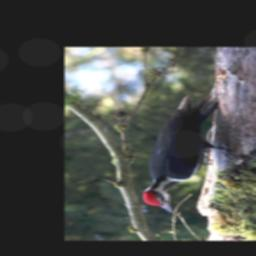Woodpecker: (142, 85, 241, 214)
